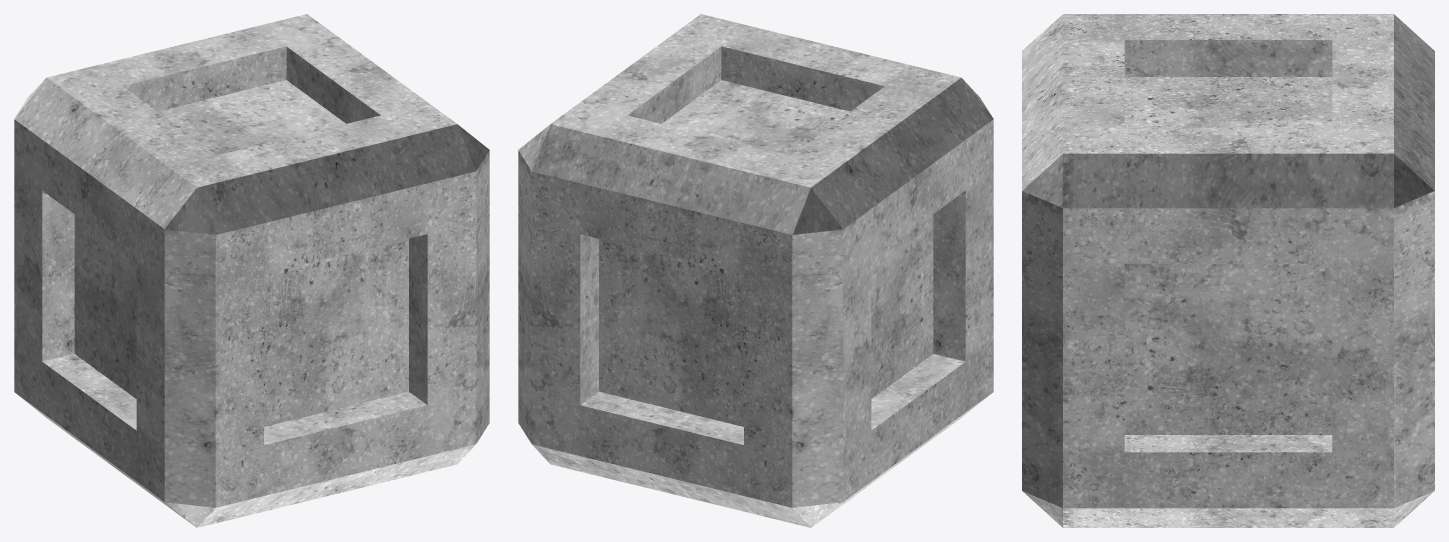
The model's file is Block5_2.obj.
The picture shows the model from 3 angles, left to right: view 1: azimuth 30°, elevation 25°; view 2: azimuth 150°, elevation 25°; view 3: azimuth 270°, elevation 25°; orthographic projection. The views are drawn at different scales.
Visible parts, largest first — view 1: stone_block.002; view 2: stone_block.002; view 3: stone_block.002.
Part boxes in pixels (left/top/right/bottom): stone_block.002: left=14, top=14, right=489, bottom=527; stone_block.002: left=518, top=14, right=993, bottom=527; stone_block.002: left=1022, top=14, right=1434, bottom=527.
Bounding box in the file's own units: 5.28 × 5.28 × 5.28.
